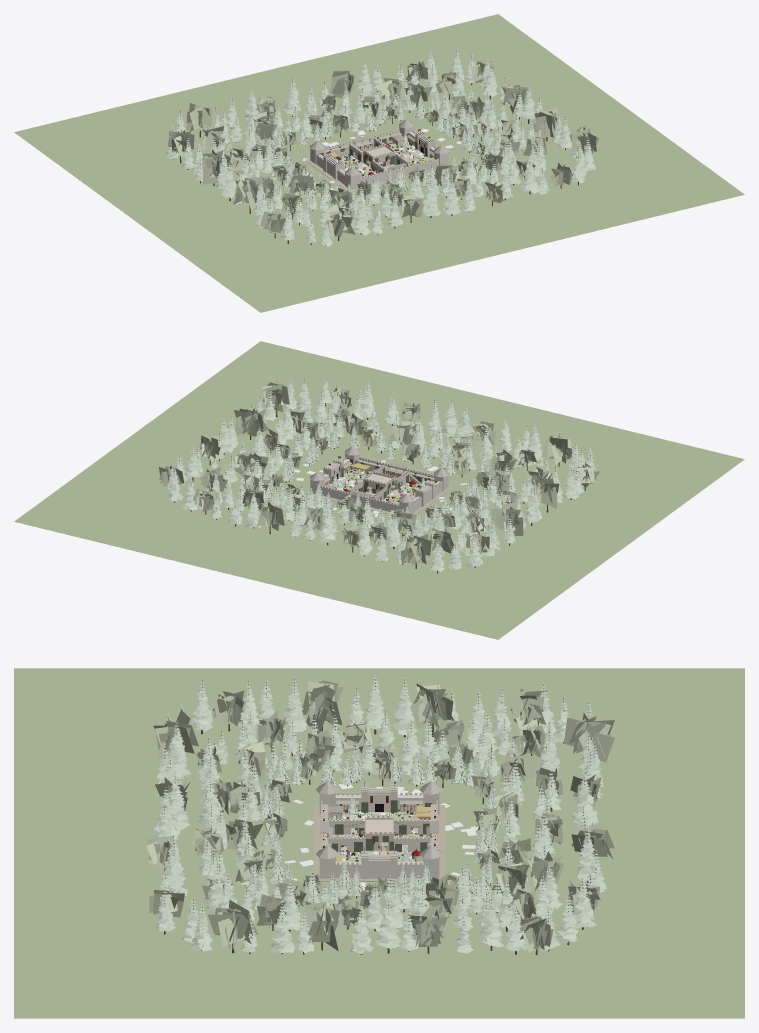
Rendered from castle.glb.
3 renders of one model, top to bottom at view 1: azimuth 30°, elevation 25°; view 2: azimuth 150°, elevation 25°; view 3: azimuth 270°, elevation 25°, orthographic. The views are drawn at different scales.
Parts seen in each view (by area): view 1: v_grass:meadow, foliage:fir, foliage:leaf, v_wall:curtain wall, v_timber:bark, v_slate:roof, cutout:greenery, v_ashlar:keep; view 2: v_grass:meadow, foliage:fir, foliage:leaf, v_wall:curtain wall, v_timber:bark, v_slate:roof, v_ashlar:keep, cutout:greenery; view 3: v_grass:meadow, foliage:fir, foliage:leaf, v_wall:curtain wall, v_slate:roof, v_timber:bark, v_mud:earth, cutout:greenery, decal:ground wear, v_ashlar:keep.
Boxes of the visible parts, x1,y1,x2,y2 form: v_grass:meadow: (14, 14, 744, 312); foliage:fir: (165, 48, 596, 246); foliage:leaf: (168, 60, 598, 238); v_wall:curtain wall: (310, 126, 448, 188); v_timber:bark: (172, 50, 588, 245); v_slate:roof: (310, 119, 448, 177); cutout:greenery: (318, 133, 436, 173); v_ashlar:keep: (339, 141, 423, 172); v_grass:meadow: (14, 341, 744, 639); foliage:fir: (166, 375, 597, 571); foliage:leaf: (159, 379, 599, 564); v_wall:curtain wall: (310, 453, 448, 513); v_timber:bark: (173, 379, 590, 573); v_slate:roof: (310, 446, 448, 502); v_ashlar:keep: (336, 469, 420, 499); cutout:greenery: (329, 458, 437, 501); v_grass:meadow: (14, 668, 744, 1018); foliage:fir: (151, 675, 606, 953); foliage:leaf: (146, 680, 614, 952); v_wall:curtain wall: (319, 784, 439, 878); v_slate:roof: (316, 781, 442, 861); v_timber:bark: (164, 678, 596, 954); v_mud:earth: (313, 805, 445, 881); cutout:greenery: (331, 800, 432, 861); decal:ground wear: (285, 784, 478, 889); v_ashlar:keep: (328, 803, 430, 851).
Size of the model in its own units: 340 by 27.6 by 300.
Materials: 49 (11 with a texture image).
